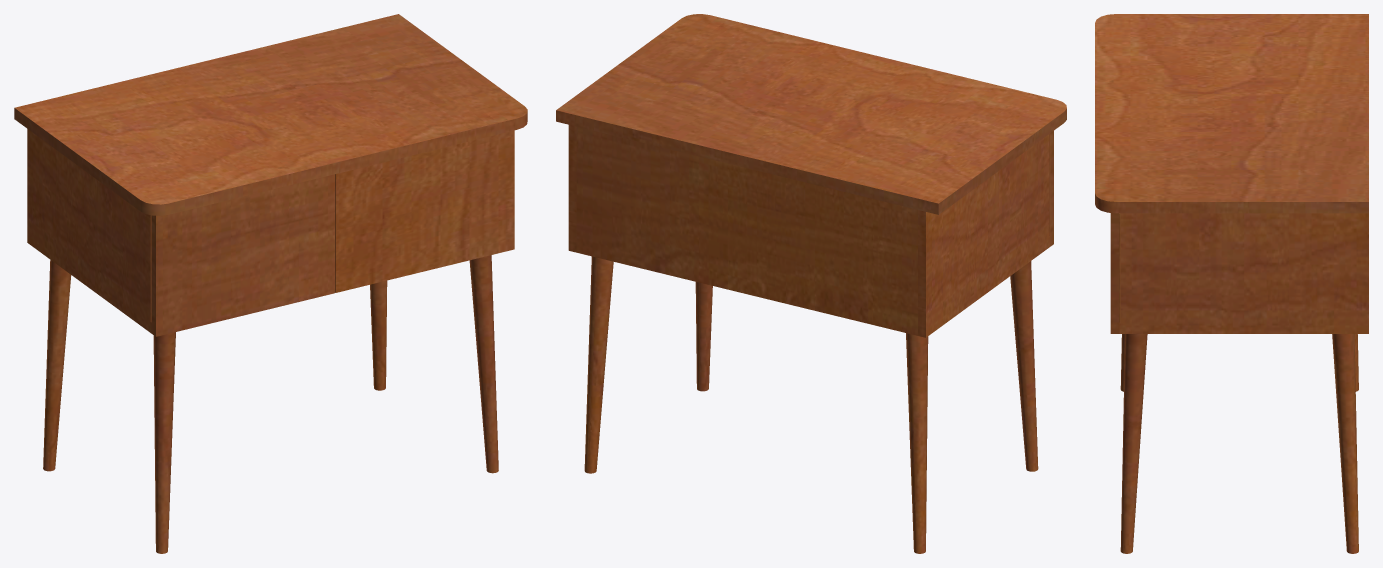
Rendered from Desk.fbx.
3 views of the same model, side by side, from view 1: azimuth 30°, elevation 25°; view 2: azimuth 150°, elevation 25°; view 3: azimuth 270°, elevation 25° (orthographic).
Visible parts, largest first — view 1: Body, Door_1, Door_2; view 2: Body; view 3: Body, Door_2.
Part boxes in pixels (x1,y1,x2,y2): Body: (14, 14, 527, 553); Door_1: (151, 174, 334, 336); Door_2: (335, 130, 514, 292); Body: (556, 14, 1066, 553); Body: (1095, 14, 1368, 553); Door_2: (1110, 213, 1119, 333).
Size of the model in its own units: 43.83 by 39.41 by 26.98.
